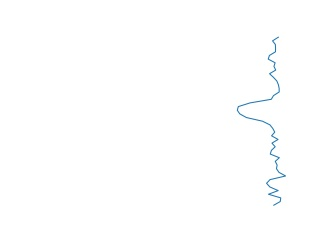interdistributaryEstuary: (234, 35, 291, 208)
